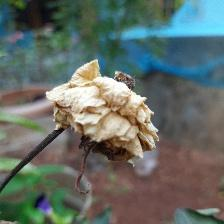rose: (45, 56, 164, 167)
